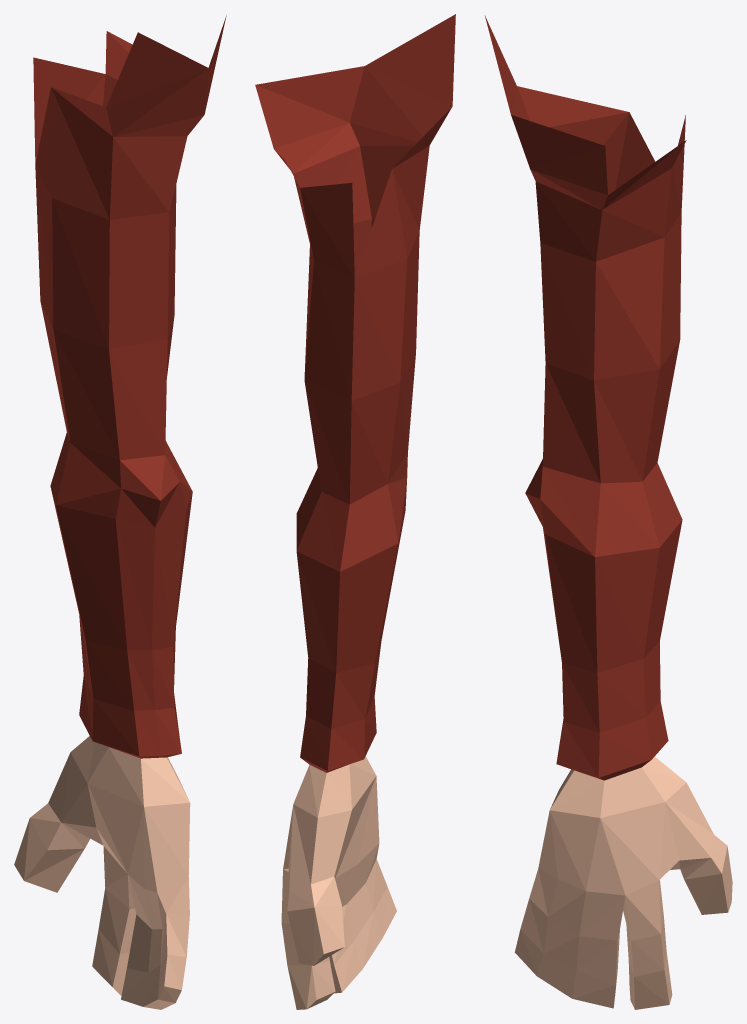
File: ArmR.obj
3 views of the same model, side by side, from view 1: azimuth 30°, elevation 25°; view 2: azimuth 150°, elevation 25°; view 3: azimuth 270°, elevation 25° (orthographic). The views are drawn at different scales.
Bounding box in the file's own units: 0.1573 × 0.9166 × 0.2143.
Materials: 1 (1 with a texture image).
